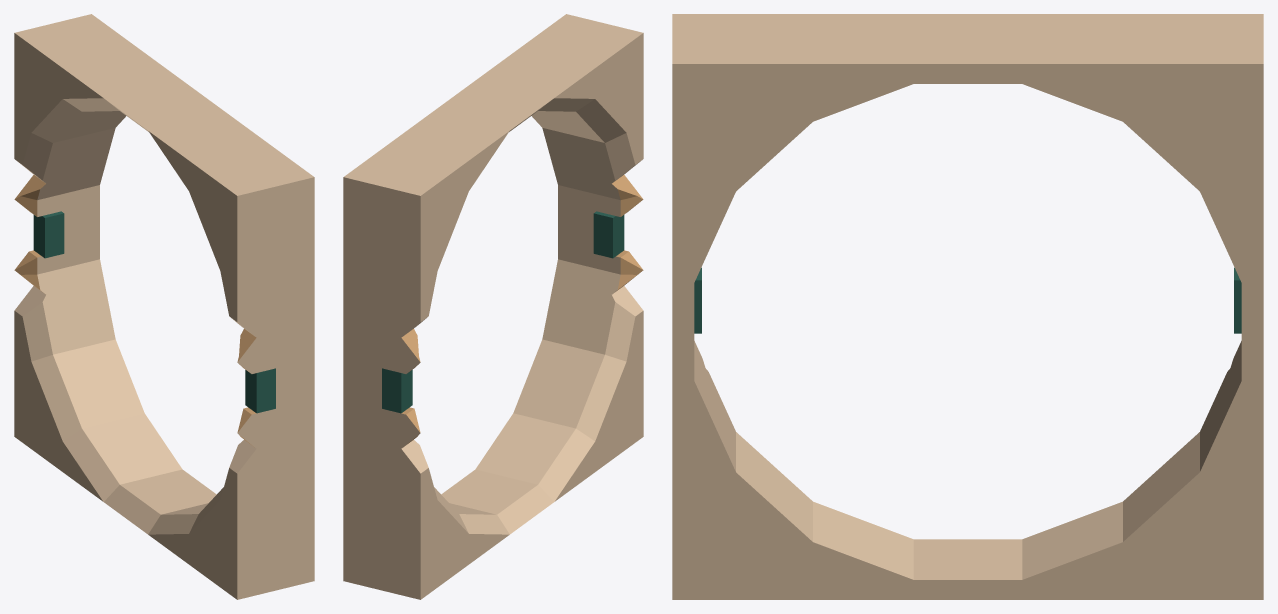
File: Energy_180.glb
3 renders of one model, left to right at view 1: azimuth 30°, elevation 25°; view 2: azimuth 150°, elevation 25°; view 3: azimuth 270°, elevation 25°, orthographic. The views are drawn at different scales.
Visible parts, largest first — view 1: mergedBlocks(Clone); view 2: mergedBlocks(Clone); view 3: mergedBlocks(Clone).
Part boxes in pixels (<box>): mergedBlocks(Clone): <box>14,14,314,599</box>; mergedBlocks(Clone): <box>343,14,643,599</box>; mergedBlocks(Clone): <box>672,14,1263,599</box>.
Size of the model in its own units: 0.6 by 3 by 3.
